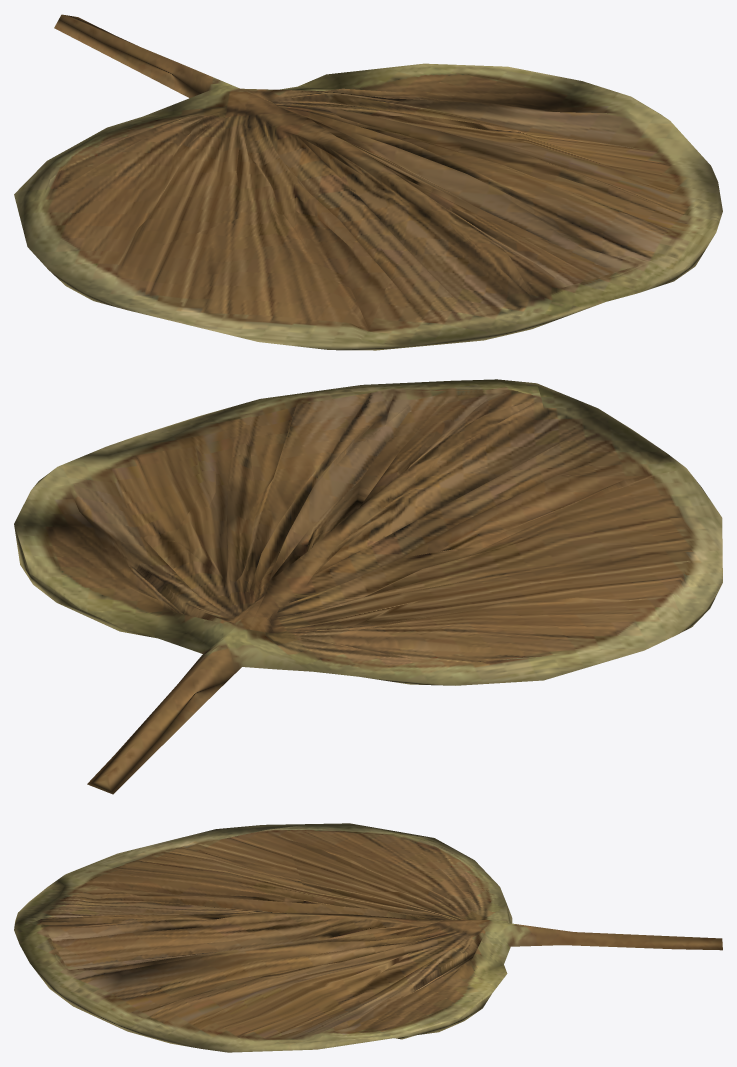
The model's file is ref_fan.glb.
The picture shows the model from 3 angles, top to bottom: view 1: azimuth 30°, elevation 25°; view 2: azimuth 150°, elevation 25°; view 3: azimuth 270°, elevation 25°; orthographic projection. The views are drawn at different scales.
Parts seen in each view (by area): view 1: ref_fan; view 2: ref_fan; view 3: ref_fan.
Boxes of the visible parts, bbox=[...] form: ref_fan: bbox=[14, 14, 722, 350]; ref_fan: bbox=[14, 379, 722, 794]; ref_fan: bbox=[14, 823, 722, 1052].
Size of the model in its own units: 0.7606 by 0.0711 by 1.
Materials: 1 (1 with a texture image).
